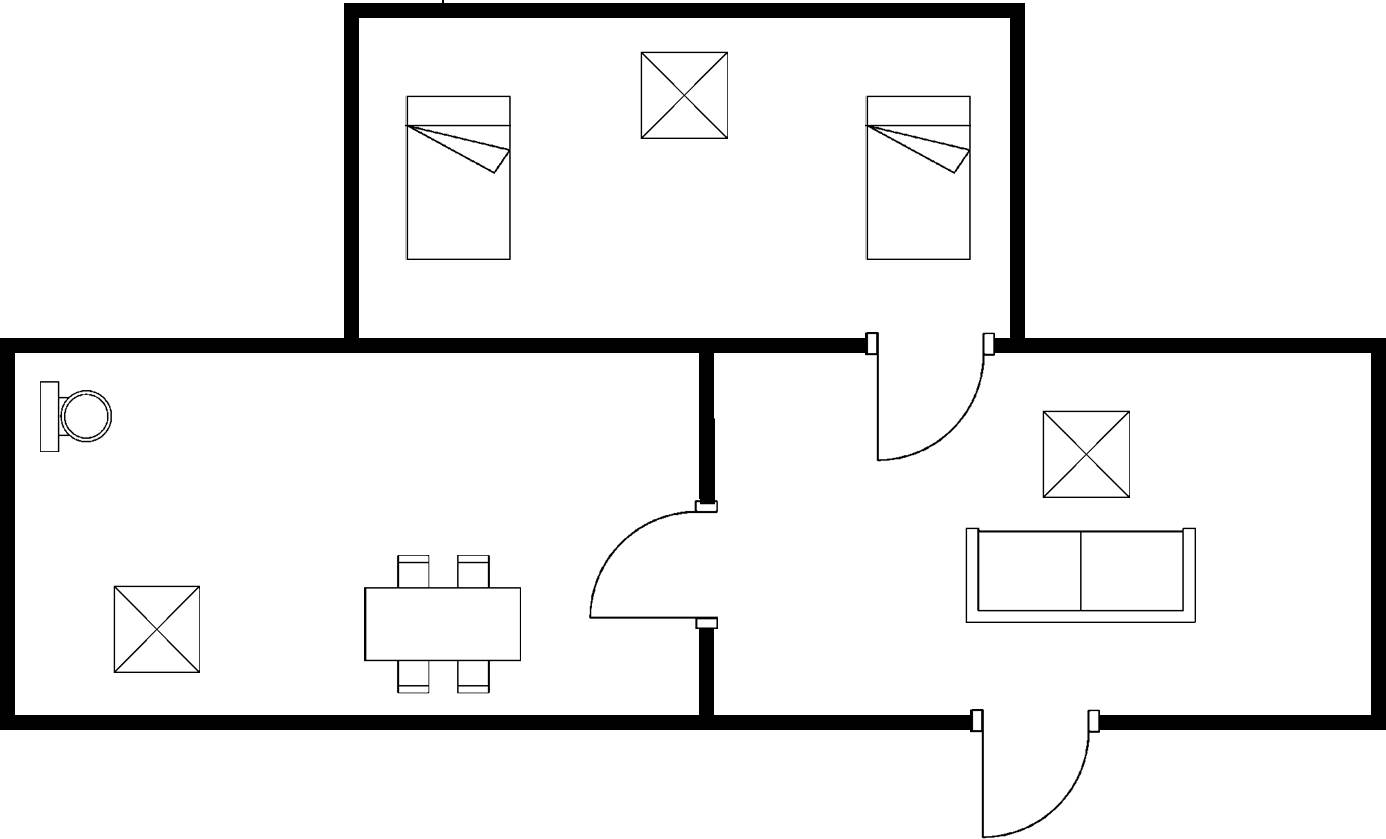bed: (400, 87, 520, 267), (860, 86, 976, 267)
coffee_table: (105, 578, 206, 681), (1035, 404, 1138, 503), (637, 46, 734, 146)
dining_table: (356, 547, 528, 700)
large_sink: (34, 375, 115, 458)
large_sofa: (957, 523, 1205, 630)
